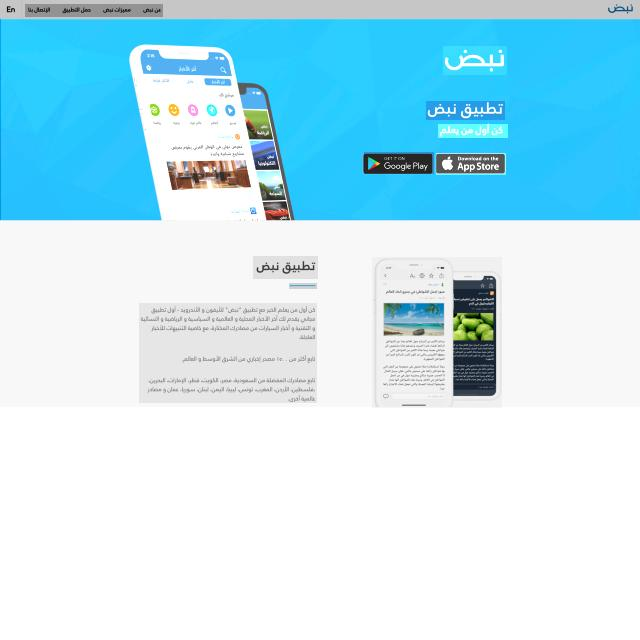CheckBox: (364, 153, 434, 175), (436, 153, 506, 175)
Input field: (139, 303, 317, 403), (426, 101, 505, 120), (438, 124, 508, 138)
accordion: (289, 283, 317, 289)
bag: (0, 0, 640, 19)
breadcrumbs: (253, 256, 318, 279)
card: (1, 18, 640, 220)
copy: (372, 257, 502, 408)
decoration: (25, 4, 163, 17)
image: (443, 46, 507, 75)
